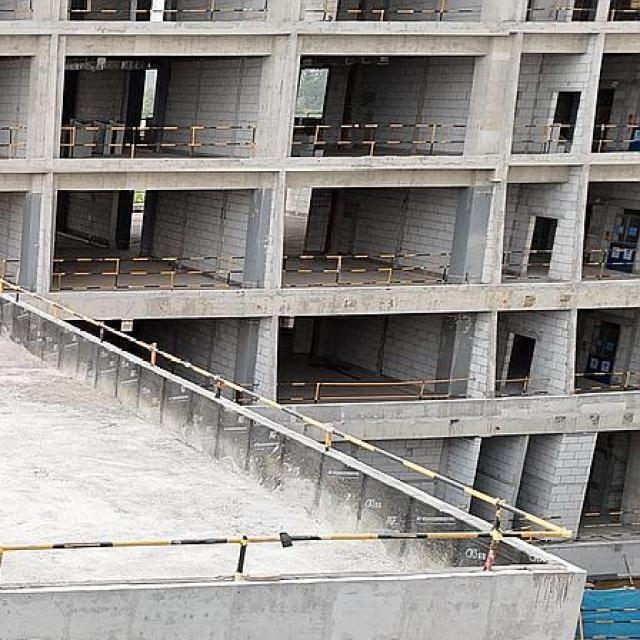edge_guardrail: (0, 276, 587, 530), (0, 532, 583, 574), (48, 253, 248, 293), (58, 122, 263, 161), (278, 251, 459, 290), (290, 121, 471, 156), (274, 376, 479, 403), (62, 0, 272, 26), (297, 0, 482, 24), (501, 509, 640, 532), (510, 120, 580, 154), (578, 244, 640, 279), (499, 244, 555, 282), (197, 376, 262, 405), (588, 120, 640, 155), (570, 368, 640, 393), (524, 0, 600, 23), (0, 121, 33, 163), (491, 373, 544, 393), (0, 0, 41, 21), (0, 256, 20, 296), (605, 0, 640, 20)
